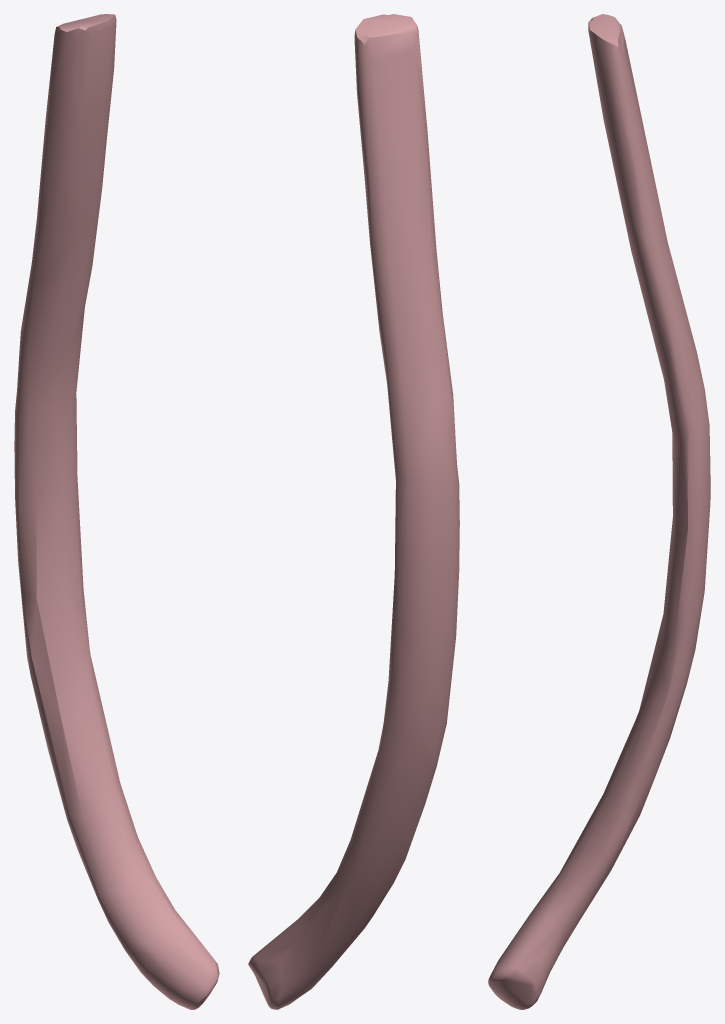
File: fma7131_fj2563.glb
3 views of the same model, side by side, from view 1: azimuth 30°, elevation 25°; view 2: azimuth 210°, elevation 25°; view 3: azimuth 270°, elevation 25° (orthographic). The views are drawn at different scales.
Visible parts, largest first — view 1: FMA7131_FJ2563; view 2: FMA7131_FJ2563; view 3: FMA7131_FJ2563.
Boxes of the visible parts, x1=… form: FMA7131_FJ2563: x1=14, y1=14, x2=219, y2=1009; FMA7131_FJ2563: x1=248, y1=14, x2=459, y2=1009; FMA7131_FJ2563: x1=488, y1=14, x2=710, y2=1009.
Bounding box in the file's own units: 0.0324 × 0.2744 × 0.0579.
